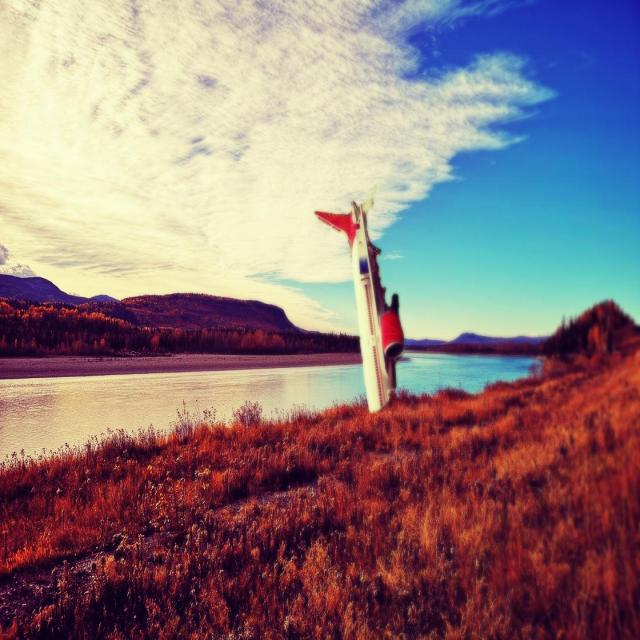airplane: (314, 183, 406, 414)
